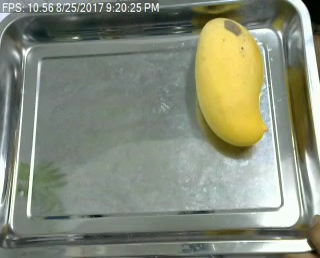Mango: (185, 12, 275, 147)
